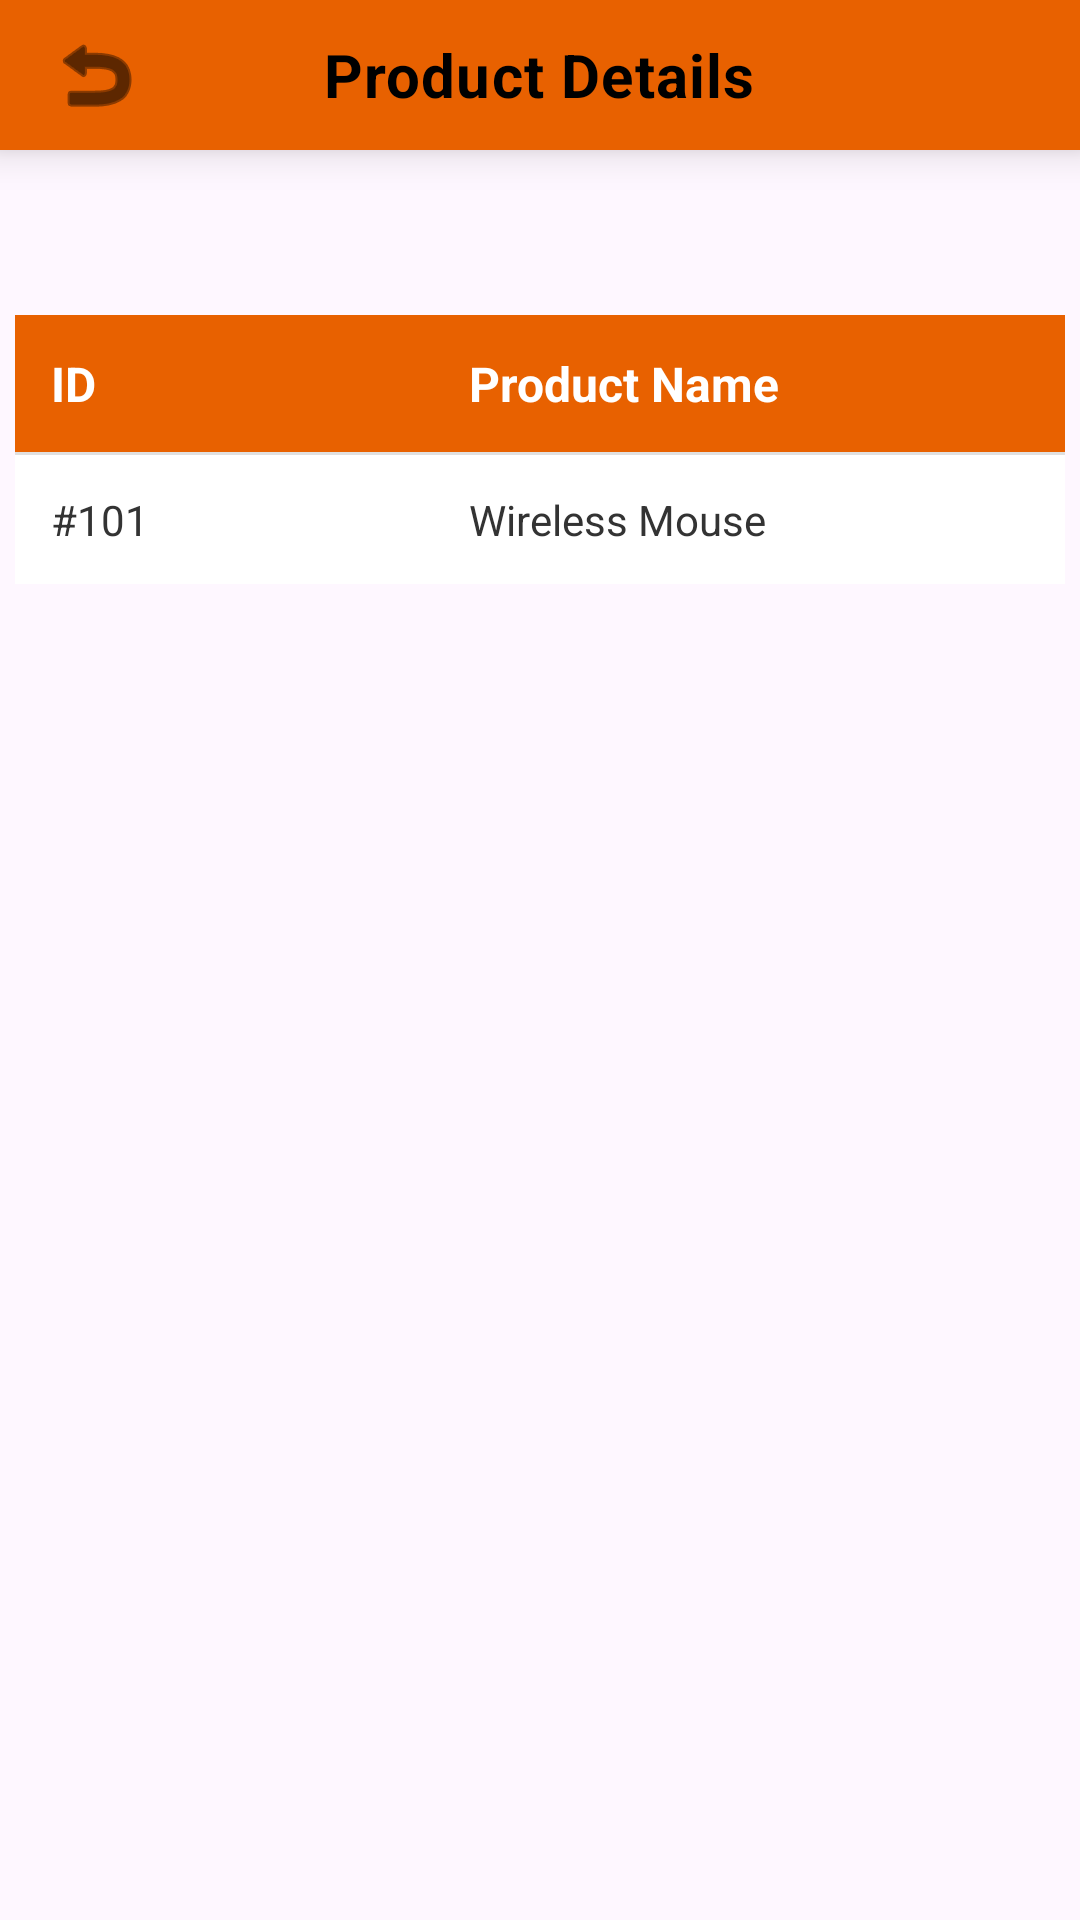

Screen size 1080 x 1920. Icon name, then its box in pixels as (x1, y1, x2, y2):
Back: (63, 44, 132, 107)
